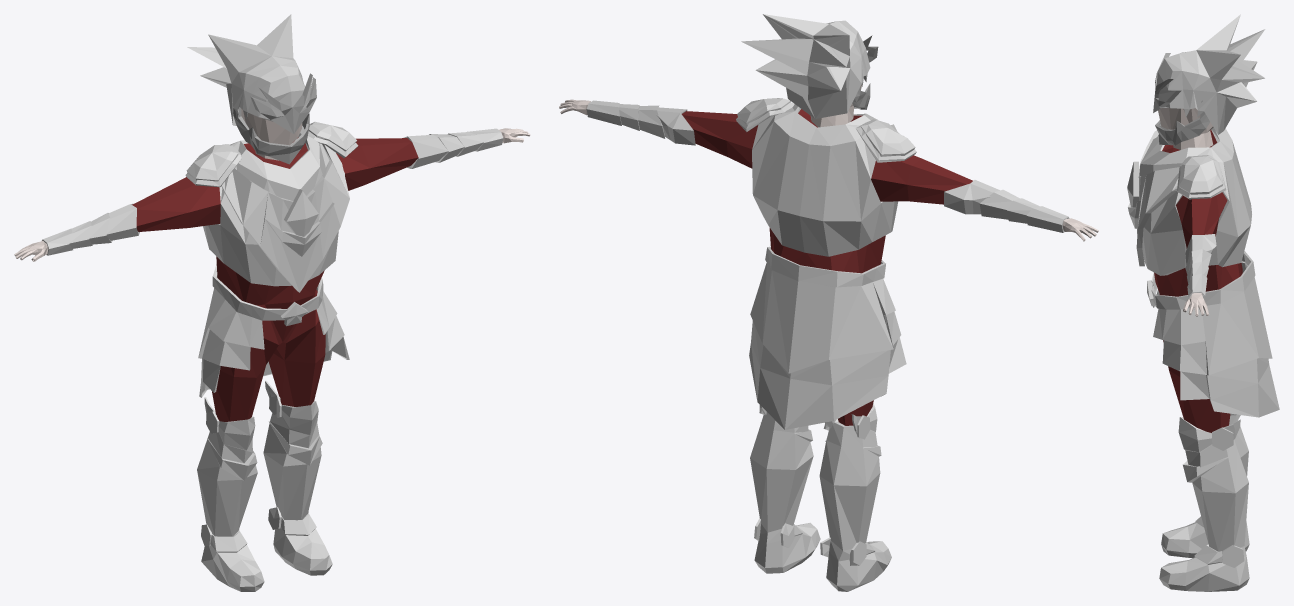
Rendered from Hero_02.fbx.
The picture shows the model from 3 angles, left to right: view 1: azimuth 30°, elevation 25°; view 2: azimuth 150°, elevation 25°; view 3: azimuth 270°, elevation 25°; orthographic projection. The views are drawn at different scales.
Parts seen in each view (by area): view 1: pCylinder25; view 2: pCylinder25; view 3: pCylinder25.
Boxes of the visible parts, left/top/right/bottom form: pCylinder25: left=14, top=14, right=530, bottom=591; pCylinder25: left=559, top=14, right=1098, bottom=591; pCylinder25: left=1127, top=14, right=1279, bottom=591.
Bounding box in the file's own units: 205 × 203 × 52.59.
